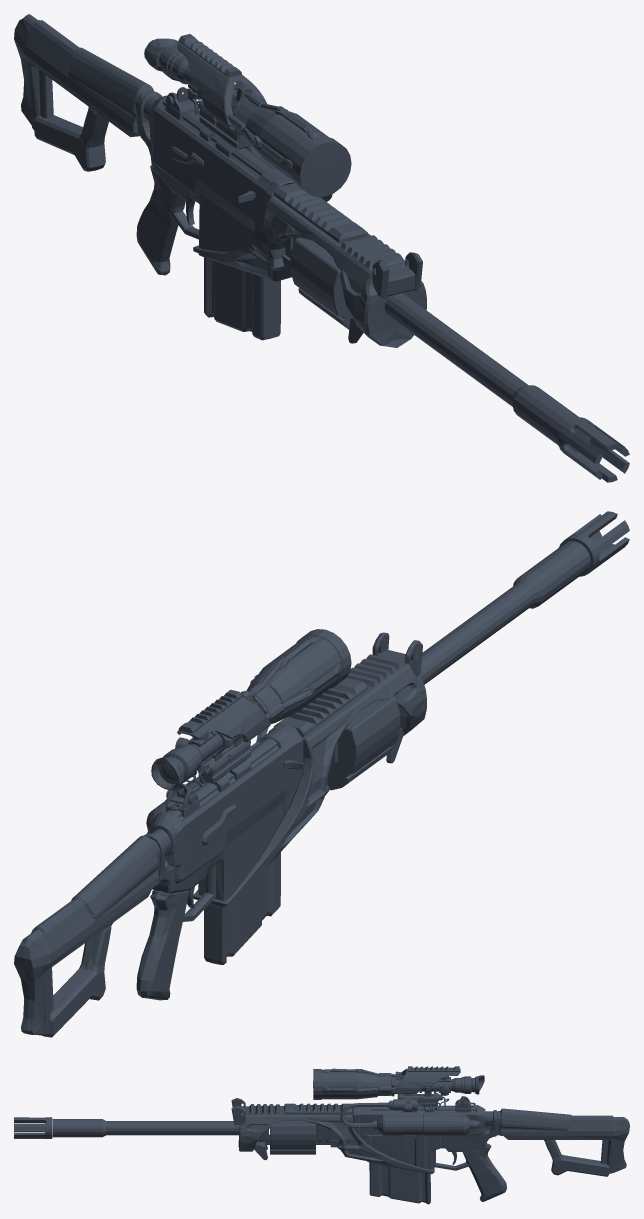
The model's file is kasimov_original.obj.
3 renders of one model, top to bottom at view 1: azimuth 30°, elevation 25°; view 2: azimuth 150°, elevation 25°; view 3: azimuth 270°, elevation 25°, orthographic. The views are drawn at different scales.
Visible parts, largest first — view 1: kasimov_Original; view 2: kasimov_Original; view 3: kasimov_Original.
Boxes of the visible parts, left/top/right/bottom form: kasimov_Original: left=14, top=14, right=629, bottom=482; kasimov_Original: left=14, top=511, right=629, bottom=1037; kasimov_Original: left=14, top=1066, right=629, bottom=1204.
Size of the model in its own units: 6.77 by 23.02 by 95.06.
